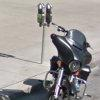Motorcycle: (38, 18, 97, 100)
